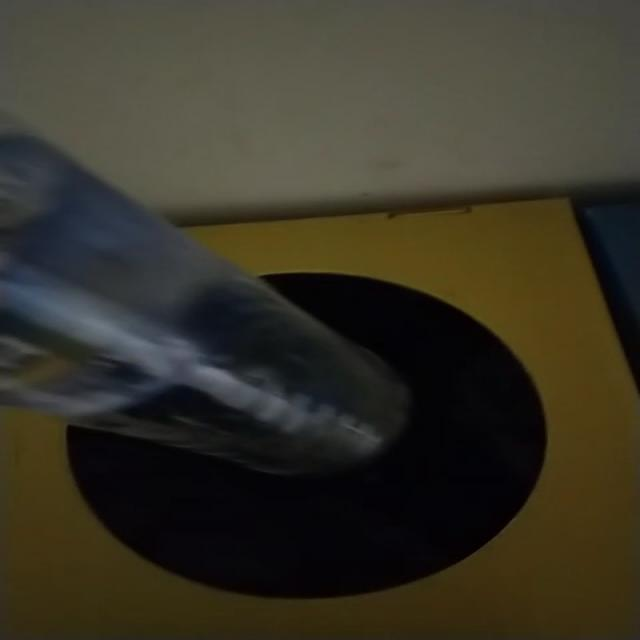Plastic: (1, 135, 408, 475)
